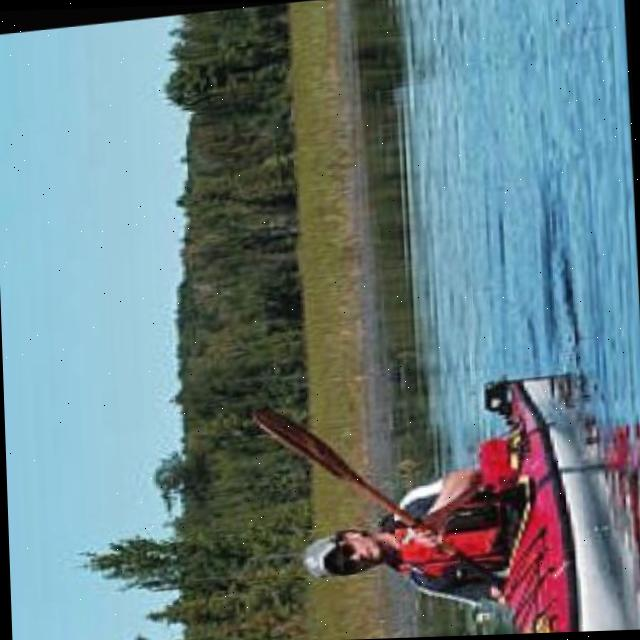kayak: (507, 384, 621, 633)
